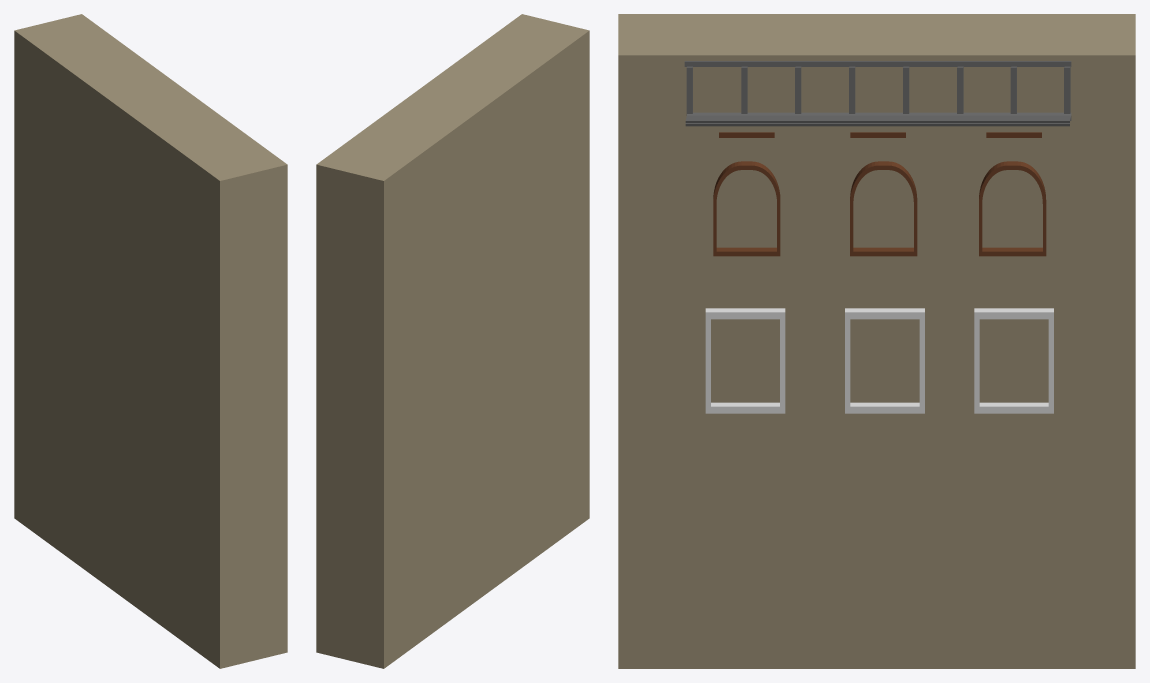
Rendered from puerta_antigua_lateral.fbx.
3 views of the same model, side by side, from view 1: azimuth 30°, elevation 25°; view 2: azimuth 150°, elevation 25°; view 3: azimuth 270°, elevation 25° (orthographic). The views are drawn at different scales.
Visible parts, largest first — view 1: Cubo.069; view 2: Cubo.069; view 3: Cubo.069, Cubo.083, Cube, Cube.001, Cube.002, Cubo.085, Cubo.092, Cubo.100, Cubo.101.
Part boxes in pixels (x1,y1,x2,y2): Cubo.069: (14, 14, 287, 668); Cubo.069: (316, 14, 589, 668); Cubo.069: (618, 14, 1135, 668); Cubo.083: (685, 112, 1071, 126); Cube: (705, 308, 785, 413); Cube.001: (845, 308, 924, 413); Cube.002: (974, 308, 1053, 413); Cubo.085: (684, 61, 1071, 66); Cubo.092: (713, 161, 780, 256); Cubo.100: (850, 161, 917, 256); Cubo.101: (979, 161, 1046, 256).
Bounding box in the file's own units: 1037 × 6271 × 4793.
